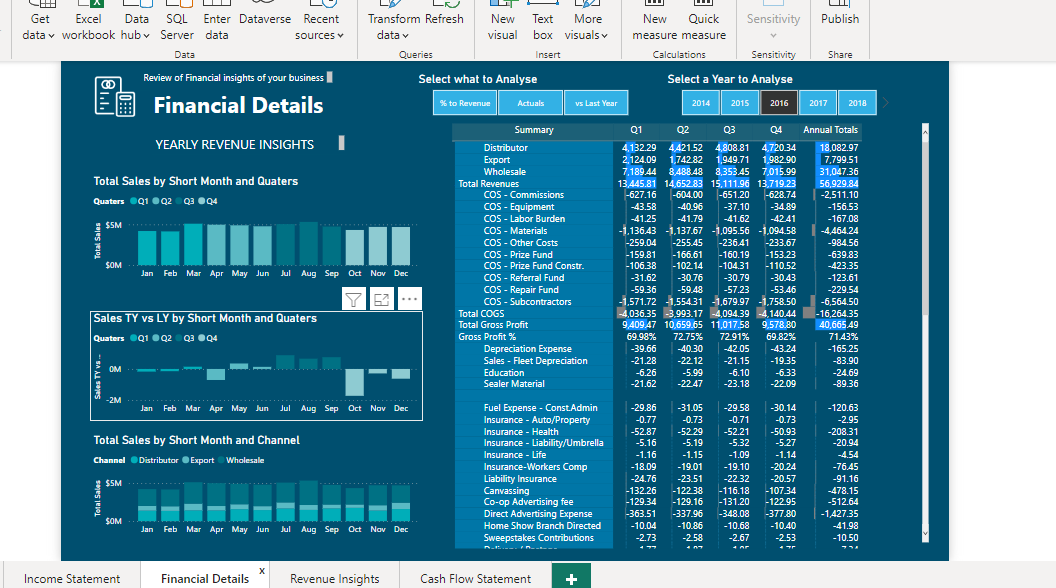

Layout of this report page (visuals, bound fields, positions):
{"tool":"powerbi","page":{"name":"Financial Details","canvas":[1280,720],"ordinal":2},"visuals":[{"type":"slicer","title":"Select what to Analyse","fields":{"Values":["Income Statement Visual.Table Details"]},"box":[509.8,15.8,331.2,69.1],"z":0},{"type":"tableEx","fields":{"Values":["Sum(Income Statement Template.Row Index)","Income Statement Template.Income Statement Items","Income Statement Visual.Q1","Income Statement Visual.Q2","Income Statement Visual.Q3","Income Statement Visual.Q4","Income Statement Visual.Annual Totals"]},"box":[557.3,85,697,622.1],"z":1000},{"type":"columnChart","fields":{"Category":["Dates.Short Month"],"Y":["Key Measures.Total Sales"],"Series":["Dates.Quaters"]},"box":[41.8,162.7,479.5,161.3],"z":2000},{"type":"columnChart","fields":{"Category":["Dates.Short Month"],"Series":["Dates.Quaters"],"Y":["Time Comparison.Sales TY vs LY"]},"box":[41.8,360,479.5,158.4],"z":3000},{"type":"columnChart","fields":{"Category":["Dates.Short Month"],"Y":["Key Measures.Total Sales"],"Series":["Sales.Channel"]},"box":[41.8,535.7,479.5,157],"z":4000},{"type":"slicer","title":"Select a Year to Analyse","fields":{"Values":["Dates.Date.Variation.Date Hierarchy.Year"]},"box":[868.3,15.8,329.8,69.1],"z":5000},{"type":"textbox","box":[113.8,10.1,282.2,33.1],"z":6000},{"type":"textbox","box":[128.2,34.6,308.2,60.5],"z":7000},{"type":"image","box":[41.8,17.3,70.6,67.7],"z":8000},{"type":"textbox","box":[131,102.2,282.2,33.1],"z":9000}]}

Visuals, with their boxes on the page's 1280x720 design canvas (x1, y1, x2, y2). These are canvas units, not pixel positions in the 1056x588 screenshot, which may show the page scaled, cropped or inside an application window:
"Select what to Analyse" slicer: 510 16 841 85
tableEx - Sum(Income Statement Template.Row Index) x Income Statement Template.Income Statement Items: 557 85 1254 707
columnChart - Dates.Short Month x Key Measures.Total Sales: 42 163 521 324
columnChart - Dates.Short Month x Dates.Quaters: 42 360 521 518
columnChart - Dates.Short Month x Key Measures.Total Sales: 42 536 521 693
"Select a Year to Analyse" slicer: 868 16 1198 85
textbox: 114 10 396 43
textbox: 128 35 436 95
image: 42 17 112 85
textbox: 131 102 413 135
